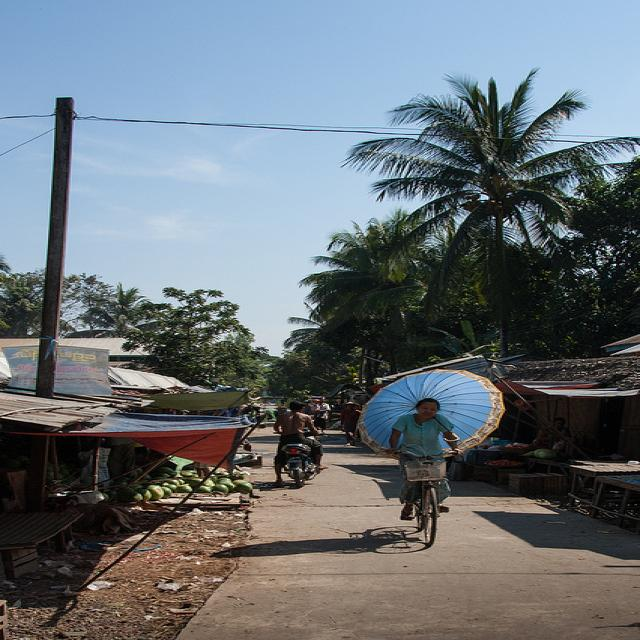motor: (281, 442, 323, 488)
